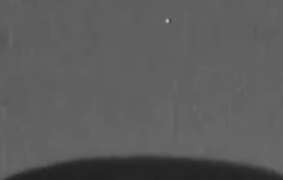Target: (165, 20, 168, 23)
